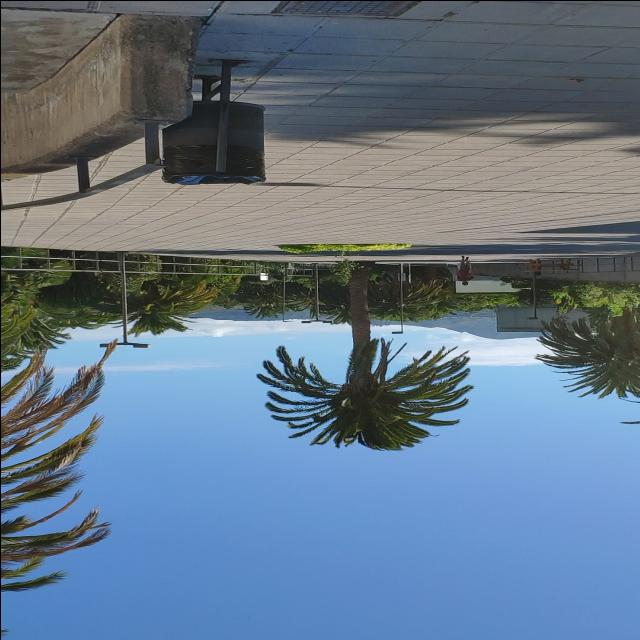Palm-Trees: (261, 264, 463, 450)
